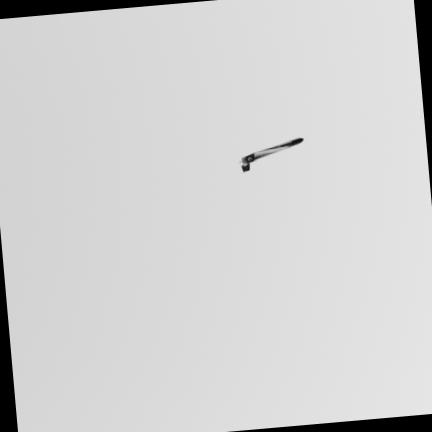Shahed: (240, 136, 305, 170)
